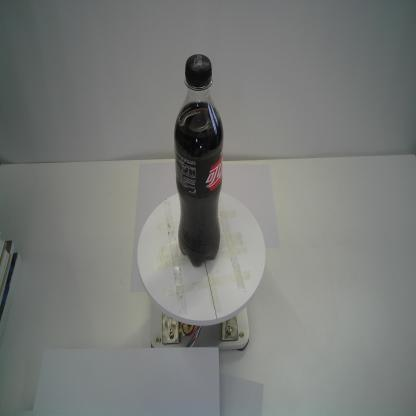Drink: (172, 51, 226, 269)
